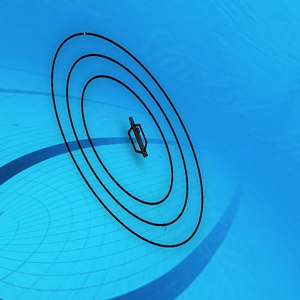circle: (40, 23, 212, 255)
submarine: (125, 116, 149, 159)
